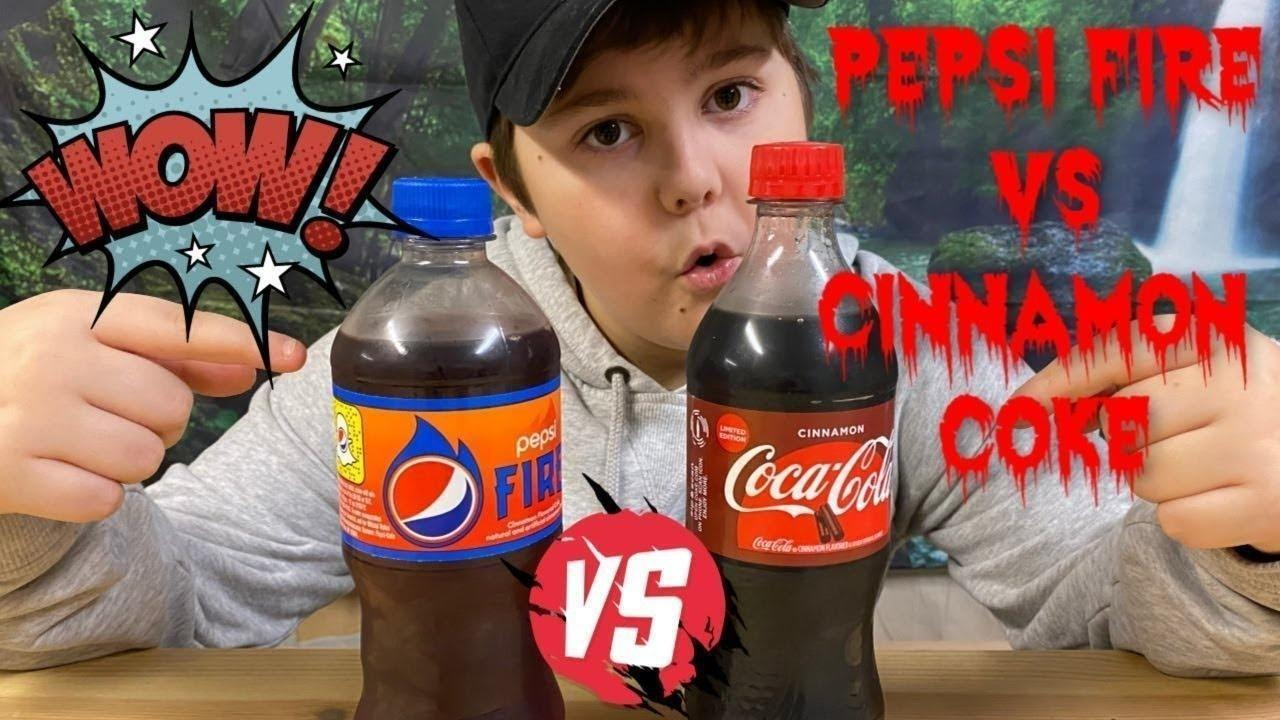bottle-plastic: (327, 170, 583, 719), (680, 136, 902, 719)
